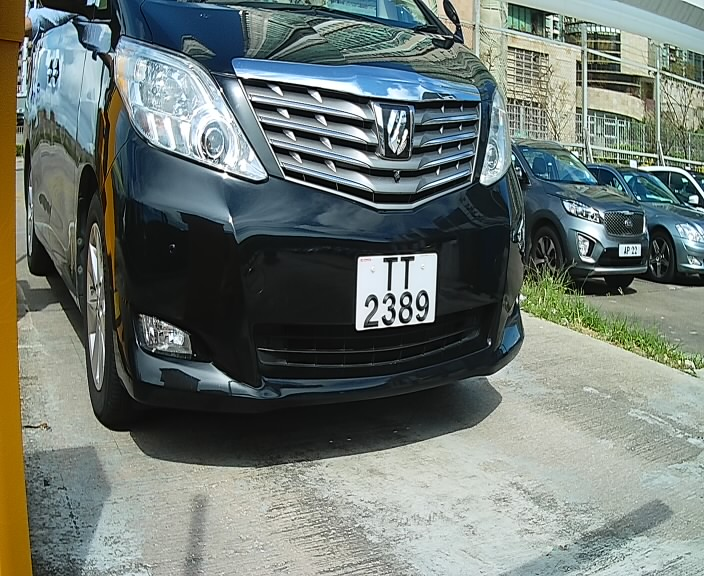License Plate: (351, 244, 447, 341)
